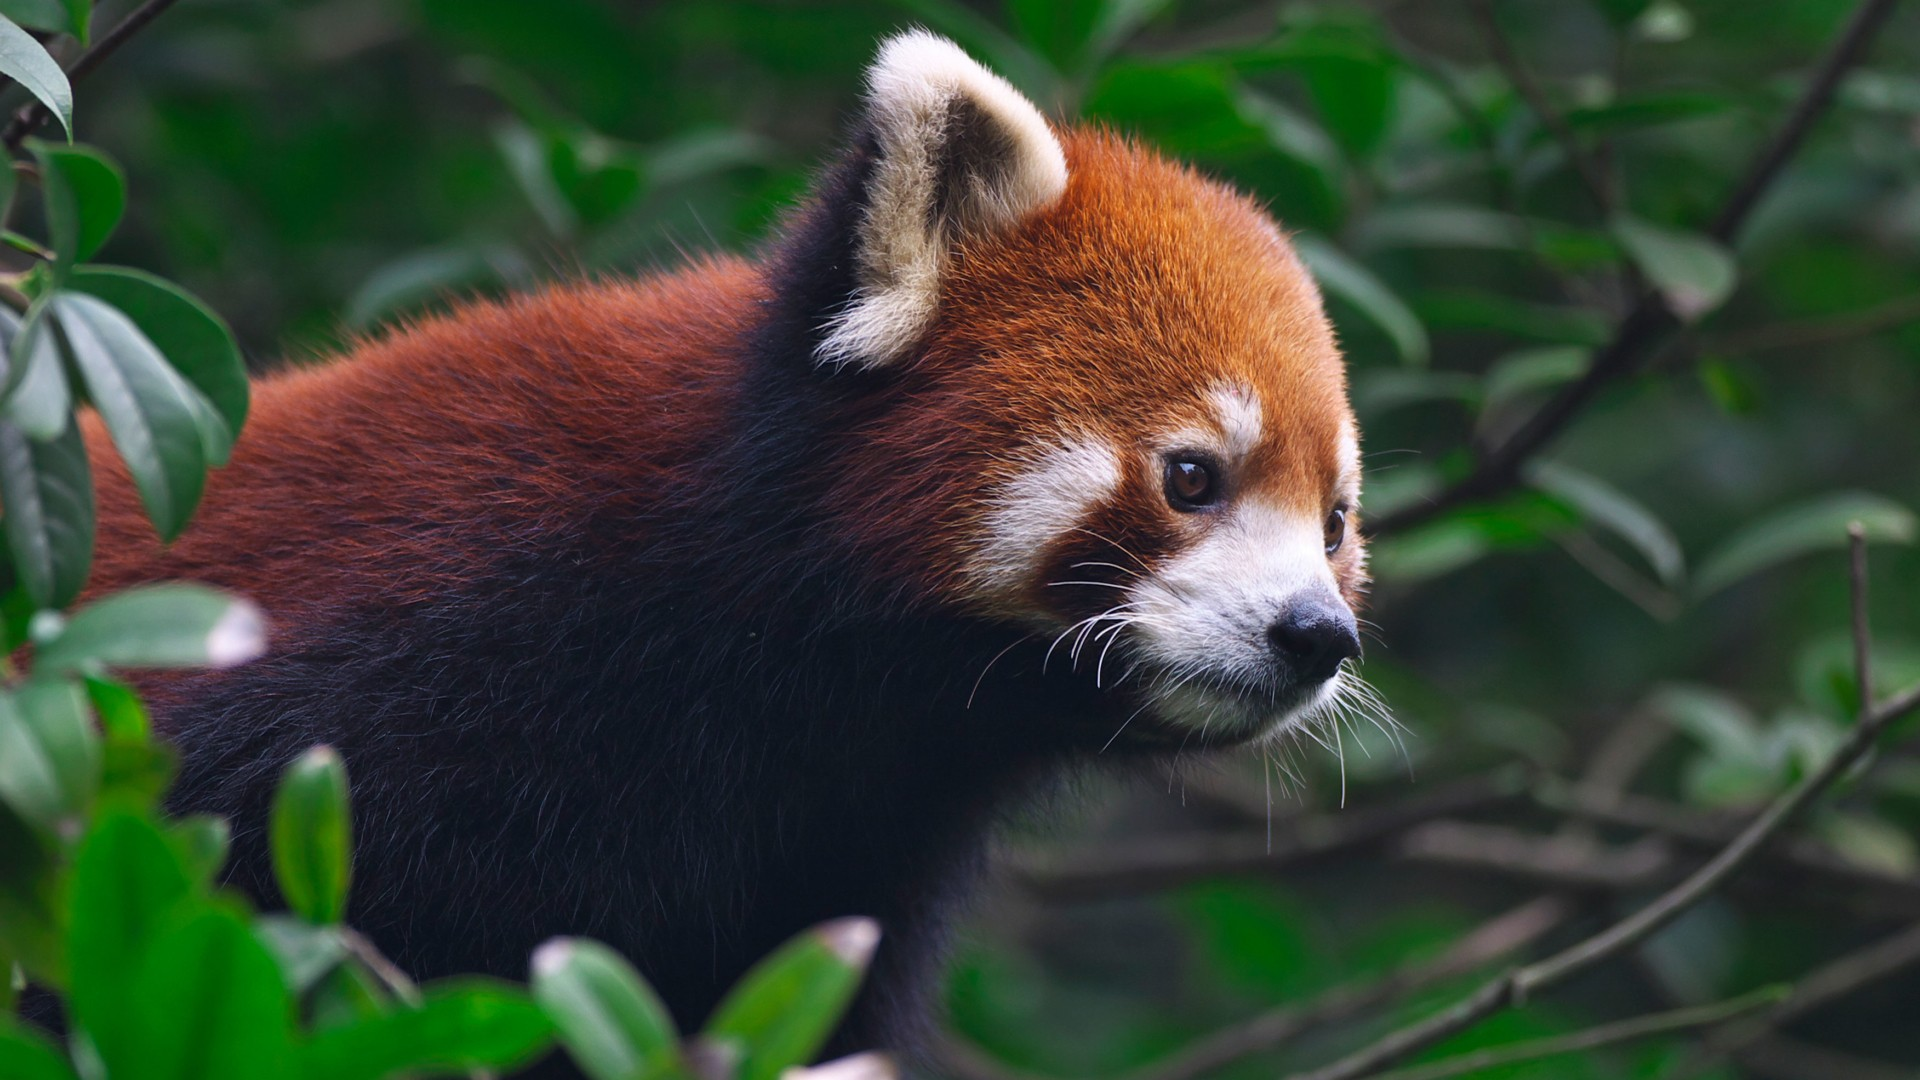Red panda: (823, 16, 1385, 760)
